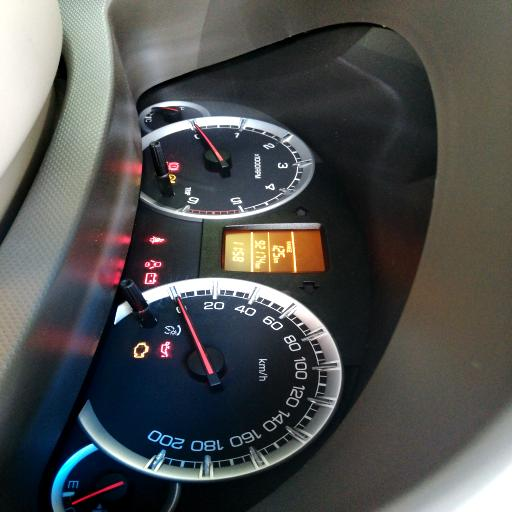belt: (150, 236, 166, 244)
brake_system_fault: (168, 162, 179, 172)
check_engine: (132, 341, 150, 359)
oil: (159, 340, 171, 358)
tachometer: (141, 115, 315, 219)
vehicle_charging: (144, 272, 156, 284)
